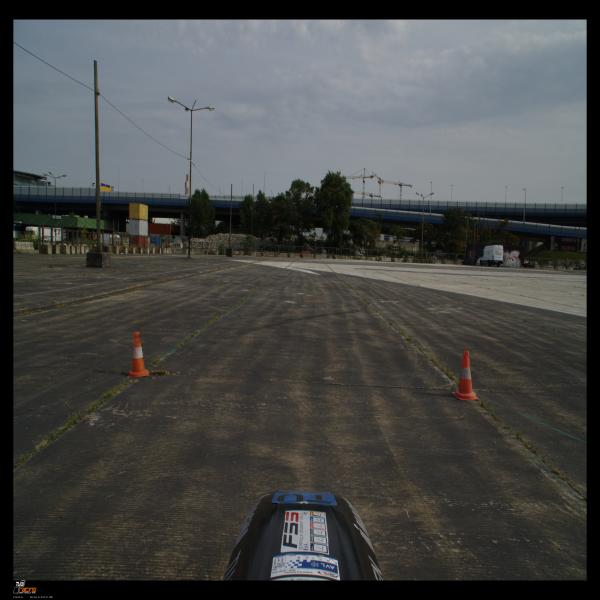orange_cone: (452, 350, 479, 400), (127, 332, 150, 378)
